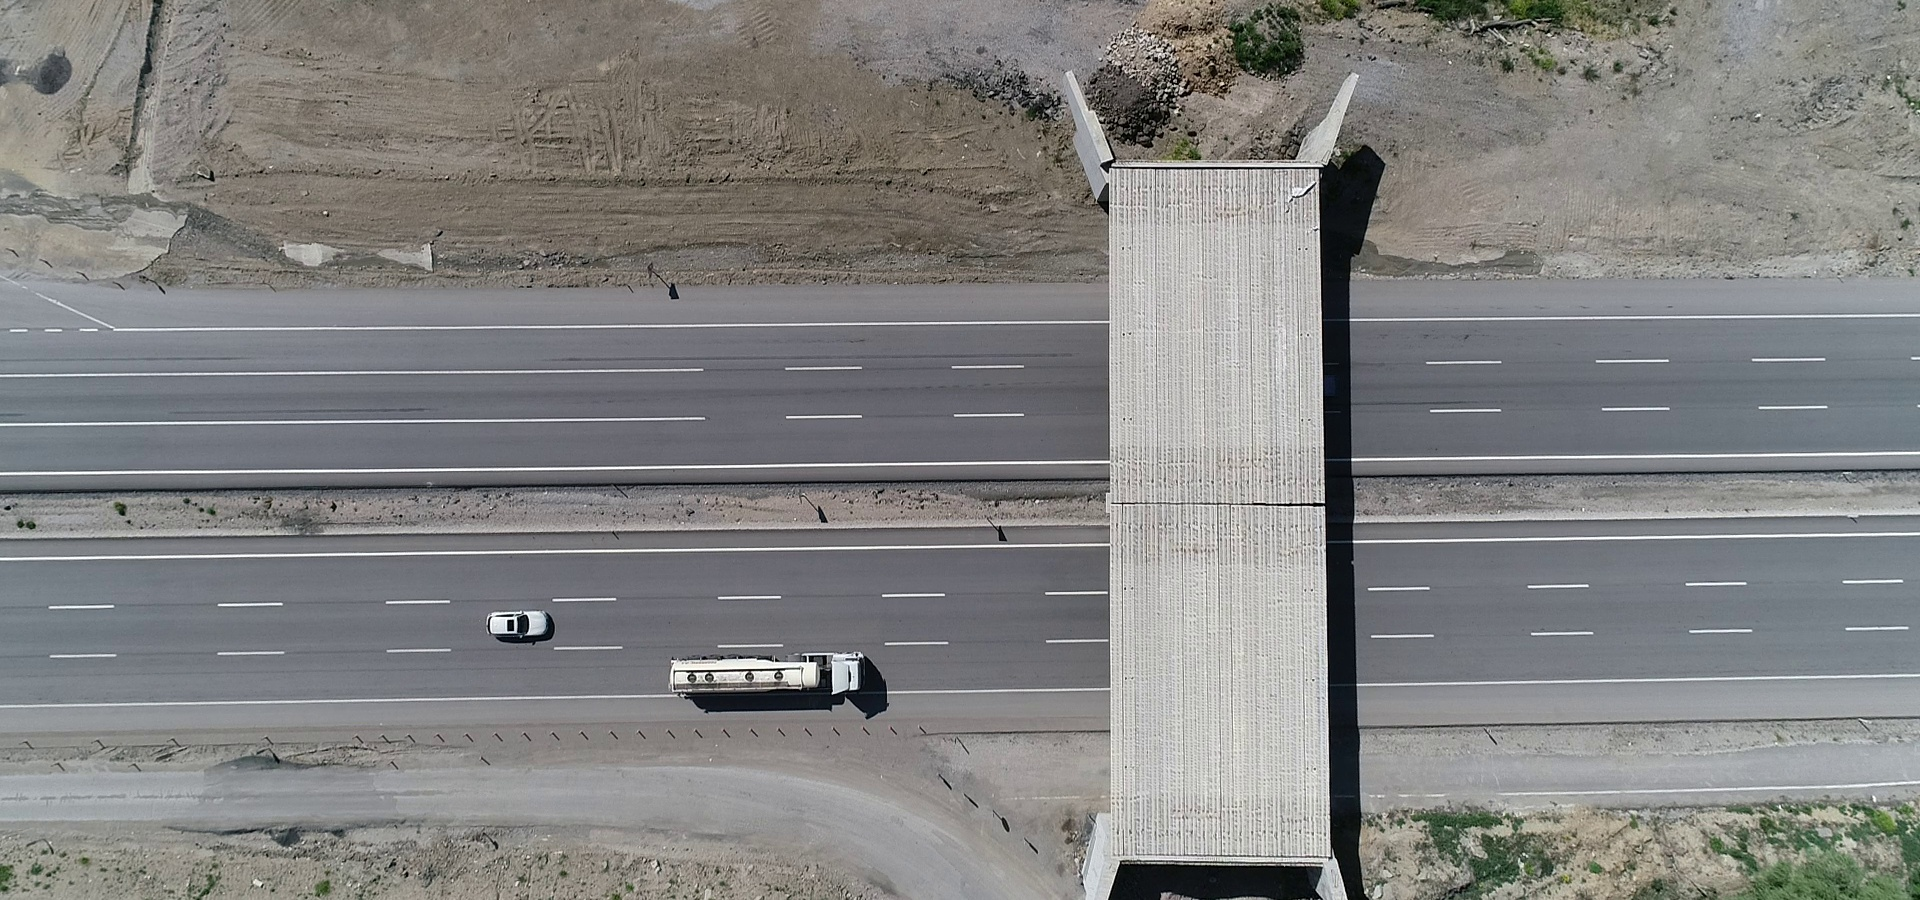araba: (481, 598, 549, 647)
kamyon: (662, 638, 871, 699)
